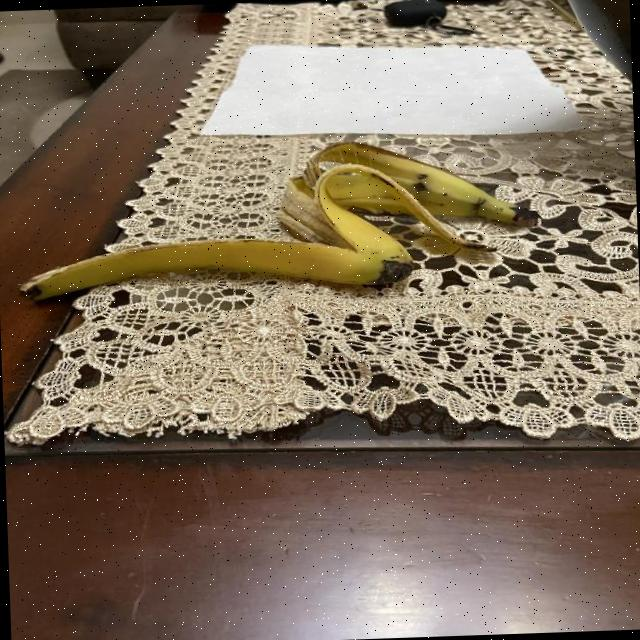banana-peel: (12, 136, 520, 304), (300, 134, 517, 232)
